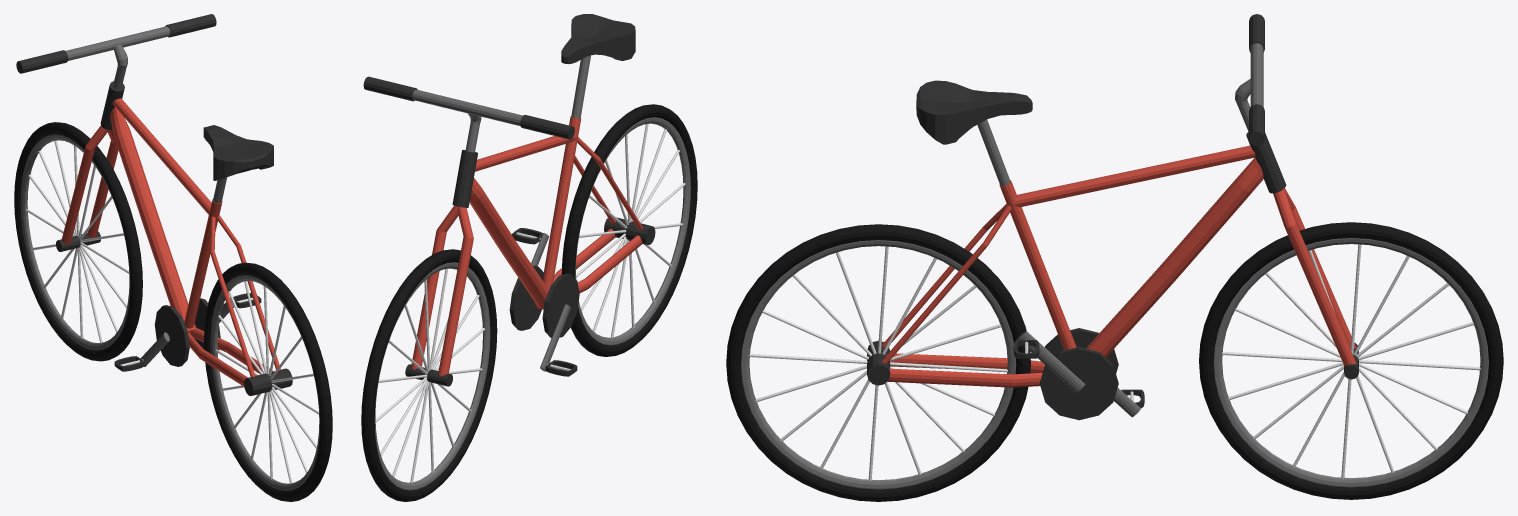
File: bike.glb
3 views of the same model, side by side, from view 1: azimuth 30°, elevation 25°; view 2: azimuth 150°, elevation 25°; view 3: azimuth 270°, elevation 25° (orthographic). The views are drawn at different scales.
Parts seen in each view (by area): view 1: tire back, tire front, body bottom, sup back, sup back.001, rim back.001, Plane, rim back, Cylinder.002, Cylinder, back top, body top (+9 smaller); view 2: tire front, tire back, sup back.001, sup back, Cylinder.002, Plane, rim back, rim back.001, Cylinder, body bottom, body back, Cylinder.005 (+10 smaller); view 3: tire front, tire back, rim back.001, rim back, sup back.001, sup back, body bottom, Cylinder, Plane, pedal gear, body top, Cylinder.002 (+6 smaller).
Part boxes in pixels (<box>): tire back: <box>204,262,332,501</box>; tire front: <box>14,122,142,361</box>; body bottom: <box>110,107,195,331</box>; sup back: <box>215,281,318,483</box>; sup back.001: <box>25,140,129,343</box>; rim back.001: <box>20,134,130,350</box>; Plane: <box>203,125,273,180</box>; rim back: <box>210,275,319,490</box>; Cylinder.002: <box>61,125,118,244</box>; Cylinder: <box>154,298,220,366</box>; back top: <box>210,215,280,376</box>; body top: <box>112,98,211,214</box>; tire front: <box>361,249,497,501</box>; tire back: <box>561,104,697,356</box>; sup back.001: <box>375,268,485,483</box>; sup back: <box>576,123,685,337</box>; Cylinder.002: <box>411,205,473,376</box>; Plane: <box>561,14,635,64</box>; rim back: <box>575,117,690,345</box>; rim back.001: <box>374,262,490,490</box>; Cylinder: <box>509,265,579,337</box>; body bottom: <box>469,178,548,309</box>; body back: <box>542,116,581,289</box>; Cylinder.005: <box>363,76,574,139</box>; tire front: <box>1199,222,1503,499</box>; tire back: <box>726,224,1030,501</box>; rim back.001: <box>1213,238,1488,487</box>; rim back: <box>741,240,1016,489</box>; sup back.001: <box>1222,244,1480,478</box>; sup back: <box>749,246,1007,480</box>; body bottom: <box>1086,157,1263,357</box>; Cylinder: <box>1040,328,1118,420</box>; Plane: <box>916,80,1032,144</box>; pedal gear: <box>887,353,1044,387</box>; body top: <box>1013,145,1255,207</box>; Cylinder.002: <box>1273,188,1356,366</box>.
Bounding box in the file's own units: 32.36 × 54.91 × 90.32.
